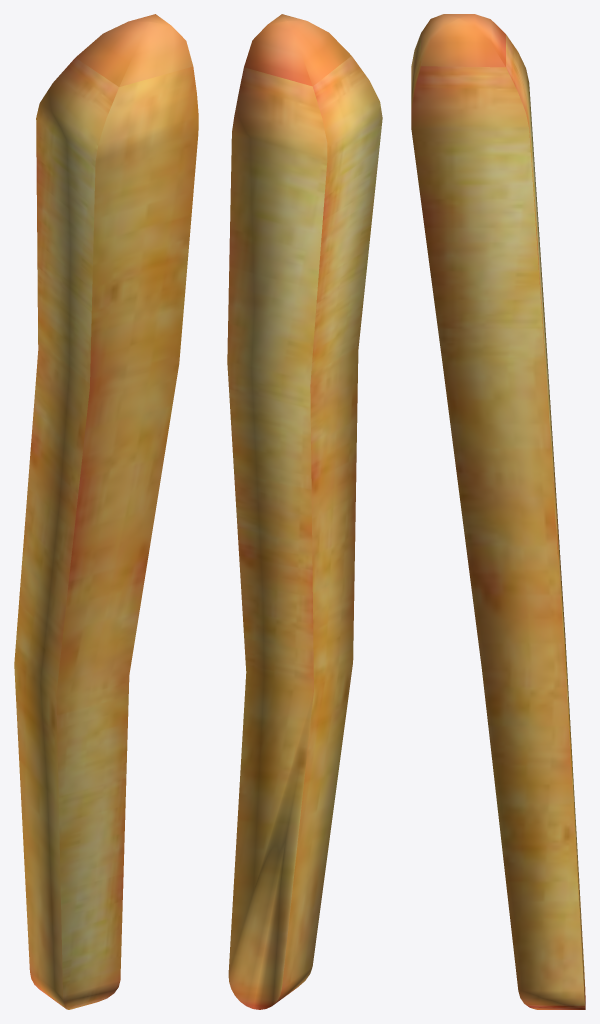
The model's file is Fries2.fbx.
3 views of the same model, side by side, from view 1: azimuth 30°, elevation 25°; view 2: azimuth 150°, elevation 25°; view 3: azimuth 270°, elevation 25° (orthographic). The views are drawn at different scales.
Parts seen in each view (by area): view 1: Fries.002; view 2: Fries.002; view 3: Fries.002.
Part boxes in pixels (x1,y1,x2,y2): Fries.002: (14, 14, 198, 1009); Fries.002: (227, 14, 382, 1009); Fries.002: (411, 14, 585, 1009).
Size of the model in its own units: 10.17 by 92.05 by 14.53.
1 material, 1 textured.
